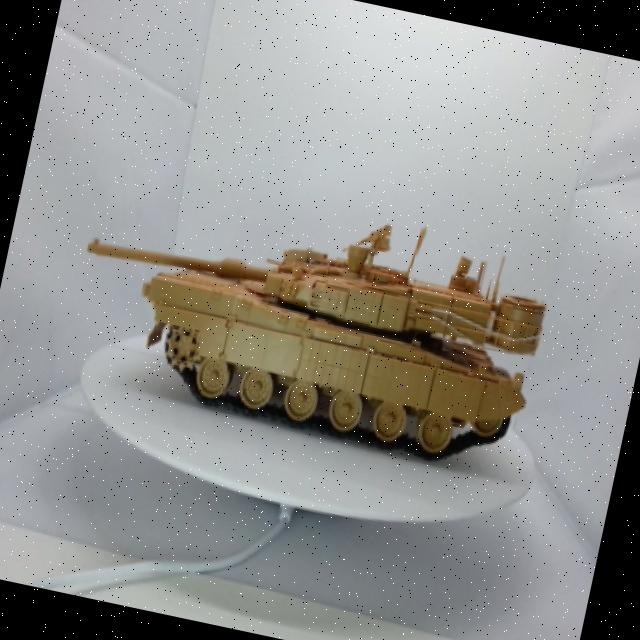korea tank: (49, 142, 565, 496)
